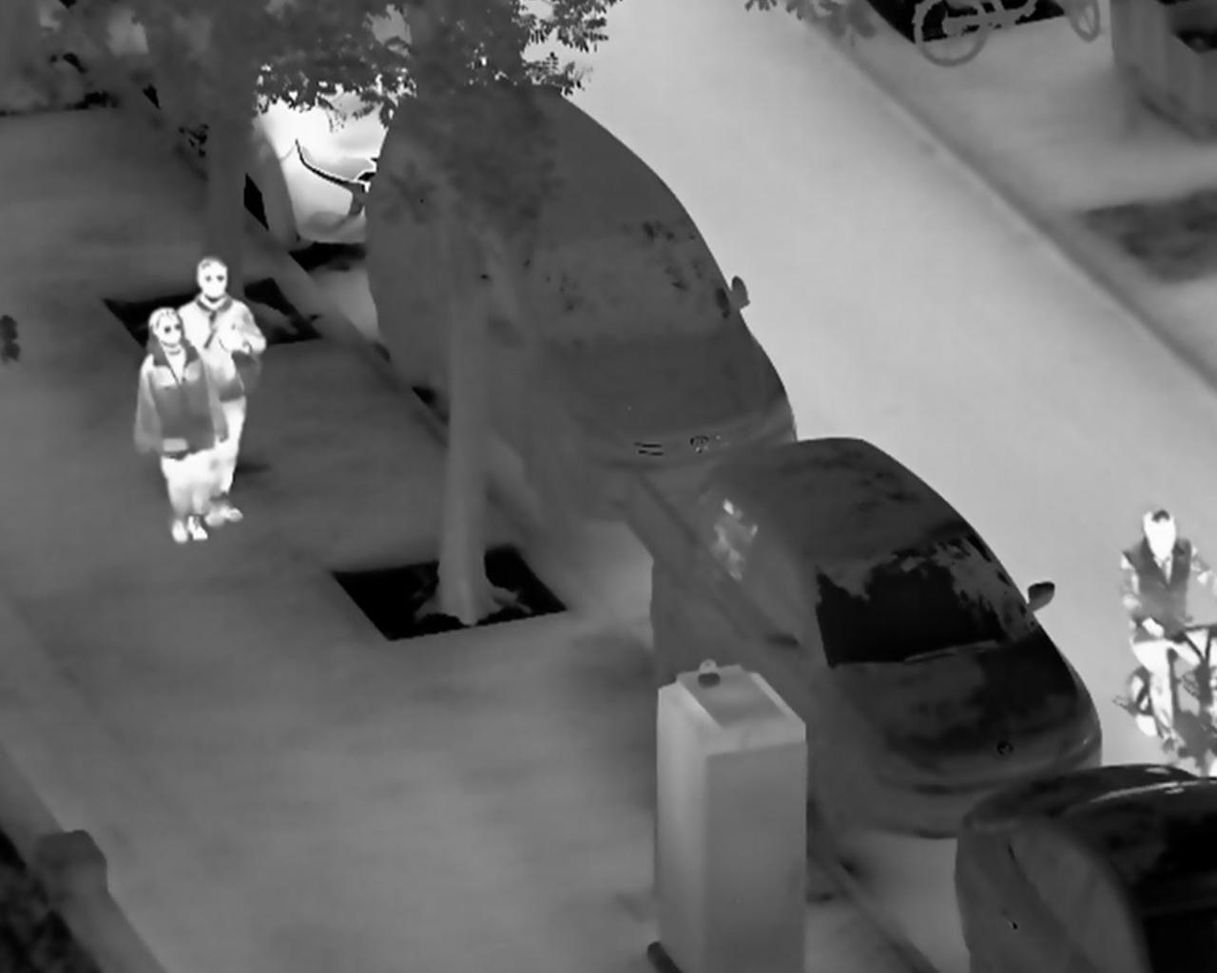person: (173, 255, 265, 529), (1116, 506, 1217, 746), (132, 306, 218, 546)
